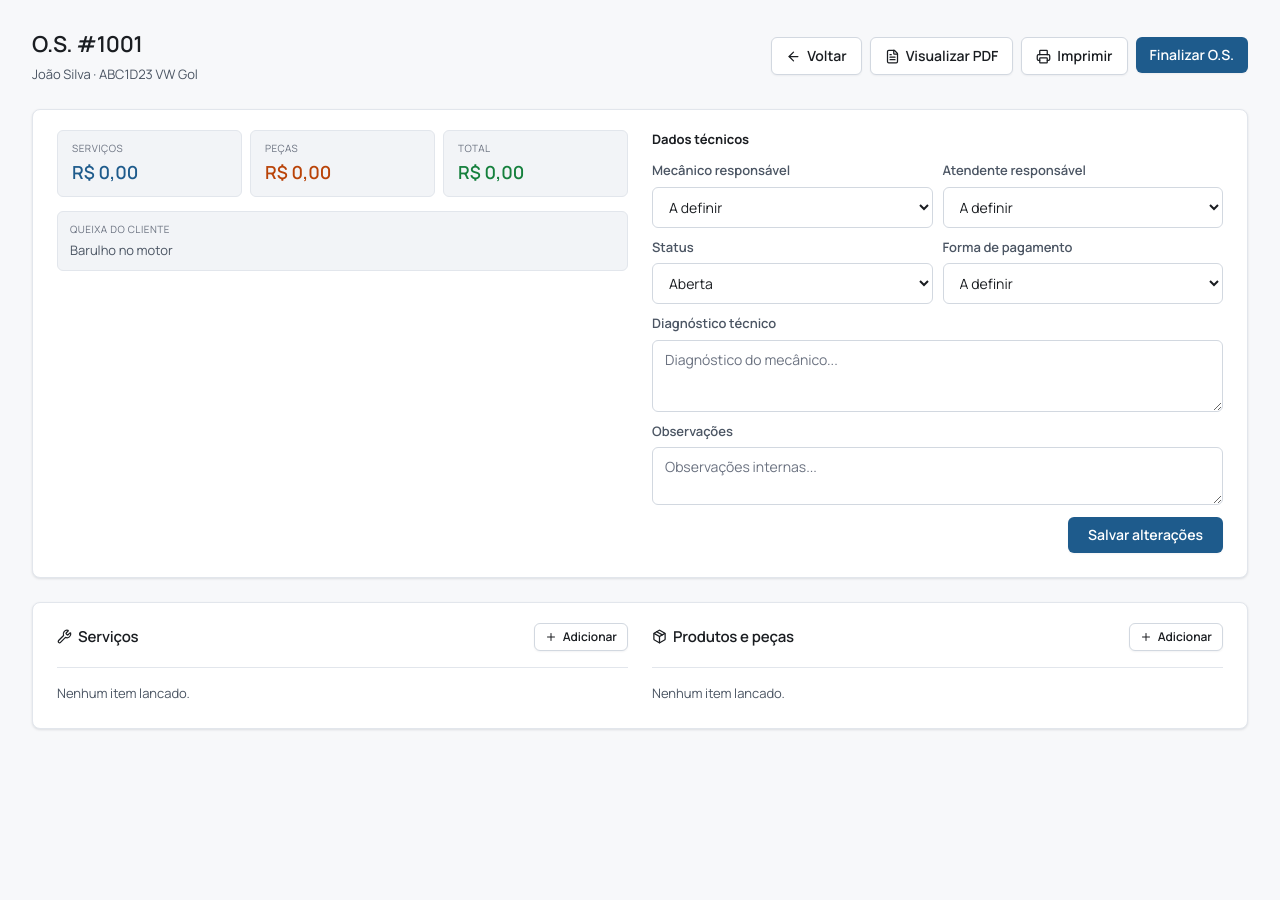
Test case: Tela de Atualizar O.S. › avisa quando a oficina ainda nao foi cadastrada, sem gerar o documento
Step 1. Click the button "Visualizar PDF" → (942, 56), box x1=870 y1=38 x2=1013 y2=75
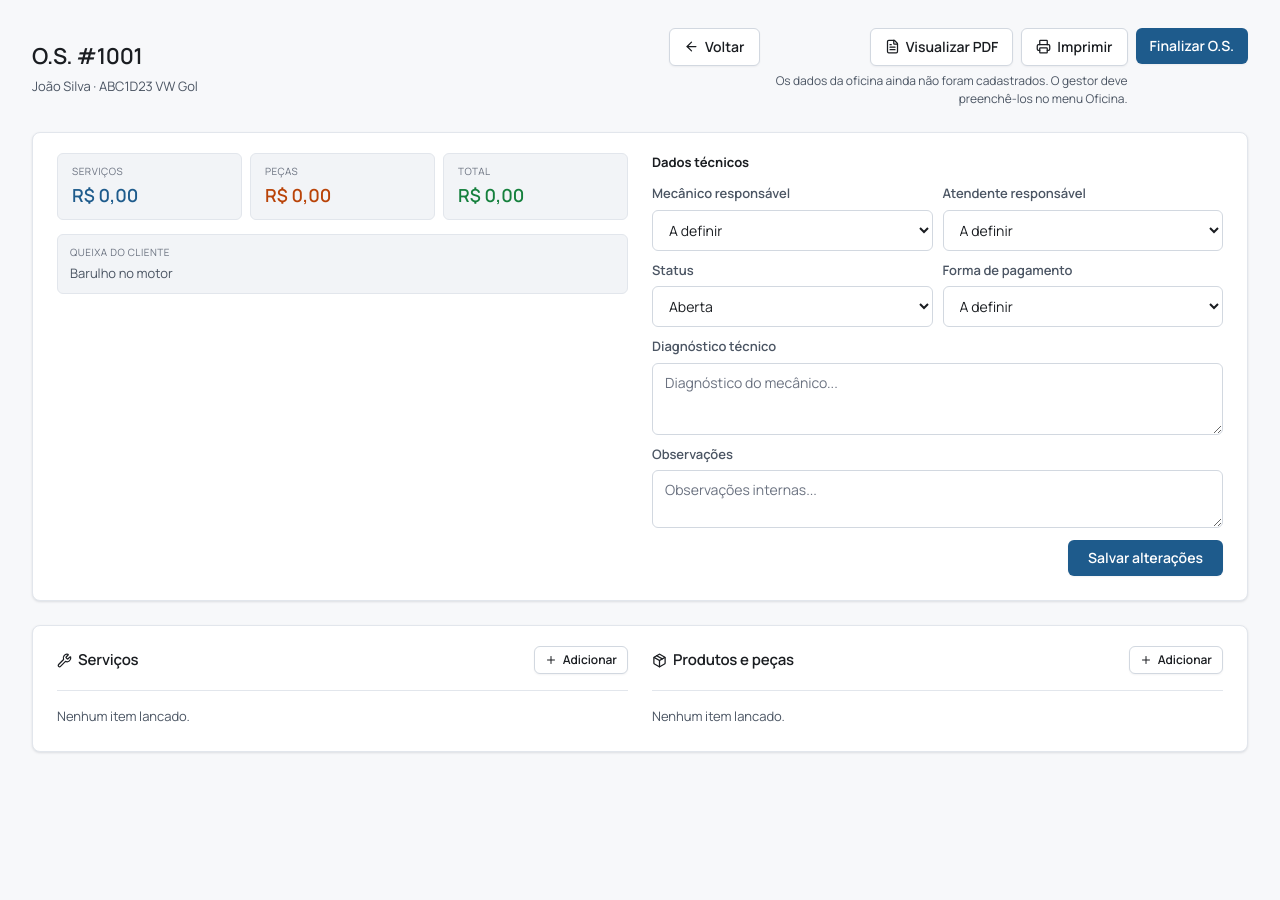
Now the message shows "oficina ainda não foram cadastrados", box x1=776 y1=72 x2=1128 y2=107
